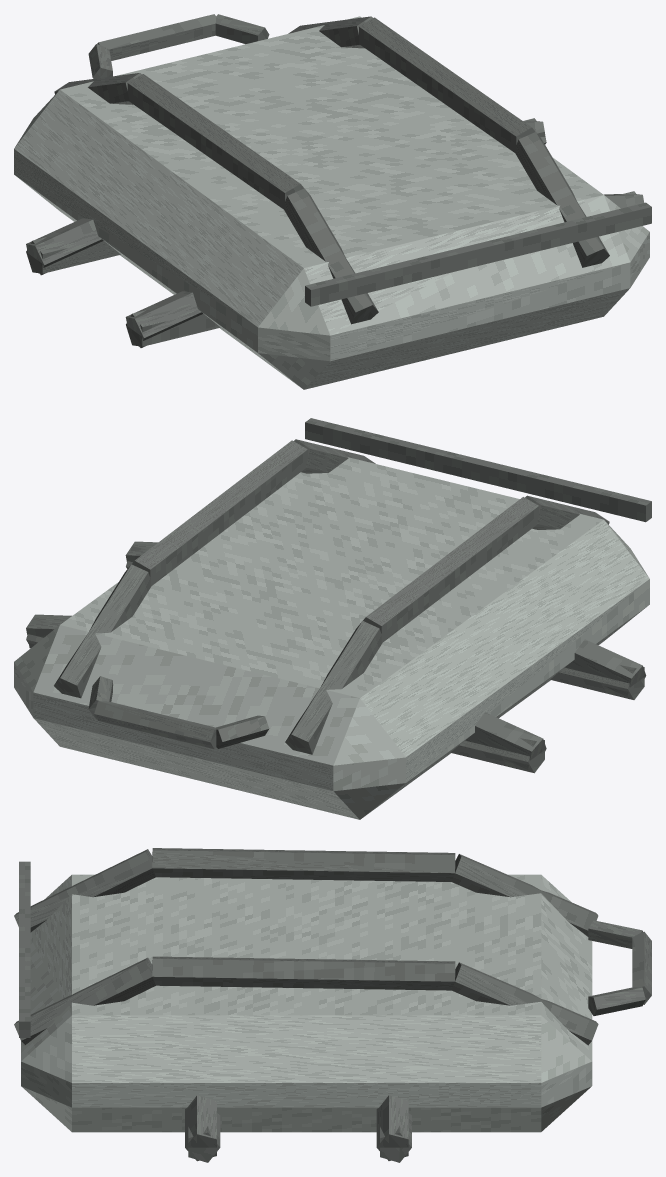
Rendered from ankle_wallet_pouch.glb.
3 views of the same model, one above another, from view 1: azimuth 30°, elevation 25°; view 2: azimuth 150°, elevation 25°; view 3: azimuth 270°, elevation 25° (orthographic). The views are drawn at different scales.
Parts seen in each view (by area): view 1: block_bag shell, block_webbing strap 1 (×2), block_zipper, block_webbing strap 2 (×2), block_adjustable thigh strap 0 (×2), block_adjustable thigh strap 1 (×2), block_carry handle 1, block_webbing strap 0 (×2), block_carry handle 2, block_carry handle 0; view 2: block_bag shell, block_webbing strap 1 (×2), block_zipper, block_webbing strap 0 (×2), block_adjustable thigh strap 0 (×2), block_adjustable thigh strap 1 (×2), block_carry handle 1, block_webbing strap 2 (×2), block_carry handle 0, block_adjustable thigh strap 2, block_carry handle 2; view 3: block_bag shell, block_webbing strap 1 (×2), block_webbing strap 0 (×2), block_webbing strap 2 (×2), block_adjustable thigh strap 2 (×2), block_zipper, block_adjustable thigh strap 1 (×2), block_carry handle 2, block_carry handle 1, block_carry handle 0.
Part boxes in pixels (left/top/right/bottom): block_bag shell: left=14, top=16, right=649, bottom=389; block_webbing strap 1 (×2): left=127, top=17, right=535, bottom=210; block_zipper: left=305, top=202, right=651, bottom=306; block_webbing strap 2 (×2): left=284, top=132, right=609, bottom=324; block_adjustable thigh strap 0 (×2): left=26, top=218, right=203, bottom=347; block_adjustable thigh strap 1 (×2): left=26, top=118, right=642, bottom=346; block_carry handle 1: left=97, top=14, right=215, bottom=60; block_webbing strap 0 (×2): left=54, top=16, right=372, bottom=104; block_carry handle 2: left=215, top=14, right=269, bottom=44; block_carry handle 0: left=88, top=44, right=112, bottom=78; block_bag shell: left=14, top=457, right=649, bottom=819; block_webbing strap 1 (×2): left=131, top=440, right=538, bottom=642; block_zipper: left=305, top=418, right=651, bottom=522; block_webbing strap 0 (×2): left=54, top=564, right=382, bottom=754; block_adjustable thigh strap 0 (×2): left=465, top=639, right=646, bottom=769; block_adjustable thigh strap 1 (×2): left=26, top=545, right=644, bottom=773; block_carry handle 1: left=94, top=701, right=216, bottom=748; block_webbing strap 2 (×2): left=294, top=439, right=609, bottom=529; block_carry handle 0: left=216, top=715, right=269, bottom=748; block_adjustable thigh strap 2: left=26, top=614, right=71, bottom=648; block_carry handle 2: left=88, top=676, right=112, bottom=719; block_bag shell: left=21, top=874, right=592, bottom=1132; block_webbing strap 1 (×2): left=152, top=848, right=455, bottom=990; block_webbing strap 0 (×2): left=451, top=854, right=598, bottom=1045; block_webbing strap 2 (×2): left=14, top=849, right=155, bottom=1044; block_adjustable thigh strap 2 (×2): left=185, top=1095, right=408, bottom=1161; block_zipper: left=19, top=861, right=30, bottom=1037; block_adjustable thigh strap 1 (×2): left=188, top=1113, right=411, bottom=1162; block_carry handle 2: left=588, top=987, right=645, bottom=1015; block_carry handle 1: left=632, top=931, right=651, bottom=1004; block_carry handle 0: left=588, top=920, right=642, bottom=948.
Size of the model in its own units: 0.0954 by 0.0298 by 0.1079.
1 material, 1 textured.
